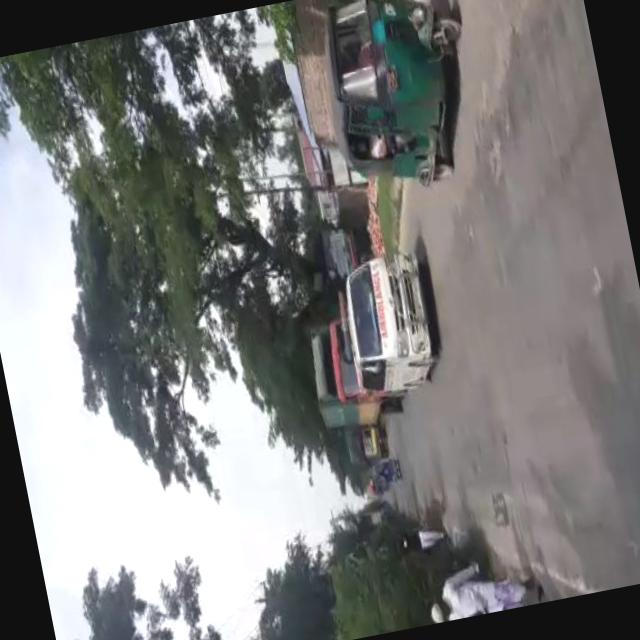motorcycle: (311, 0, 491, 204), (369, 464, 402, 491)
truck: (332, 248, 442, 402), (299, 316, 399, 438), (344, 428, 390, 471)
